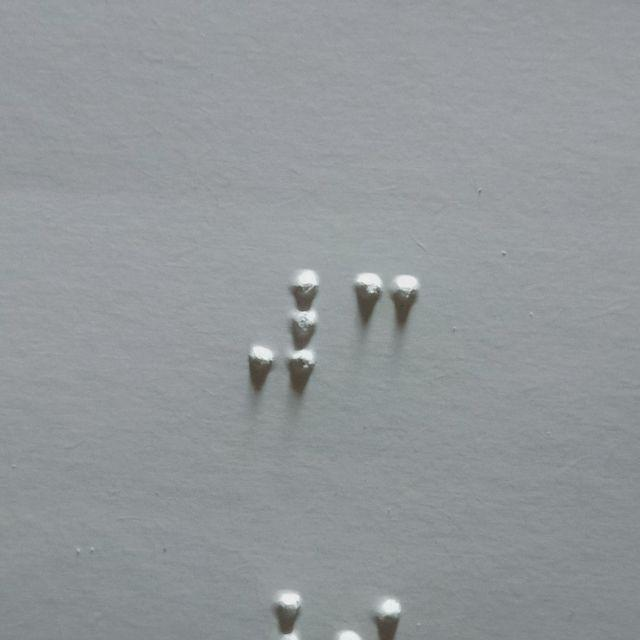3: (354, 271, 425, 381)
number: (247, 267, 318, 378)
